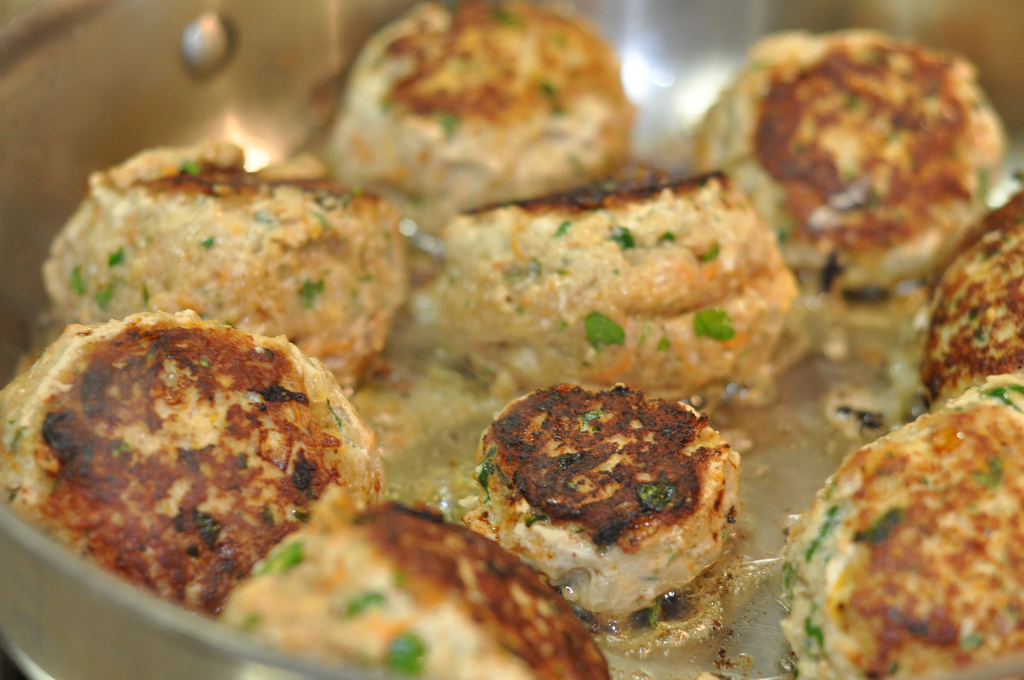meatballs: (10, 326, 388, 617), (725, 17, 1024, 338), (42, 157, 416, 412), (432, 172, 809, 409), (790, 370, 1024, 671), (475, 387, 756, 625), (258, 497, 604, 680), (329, 15, 655, 201)
